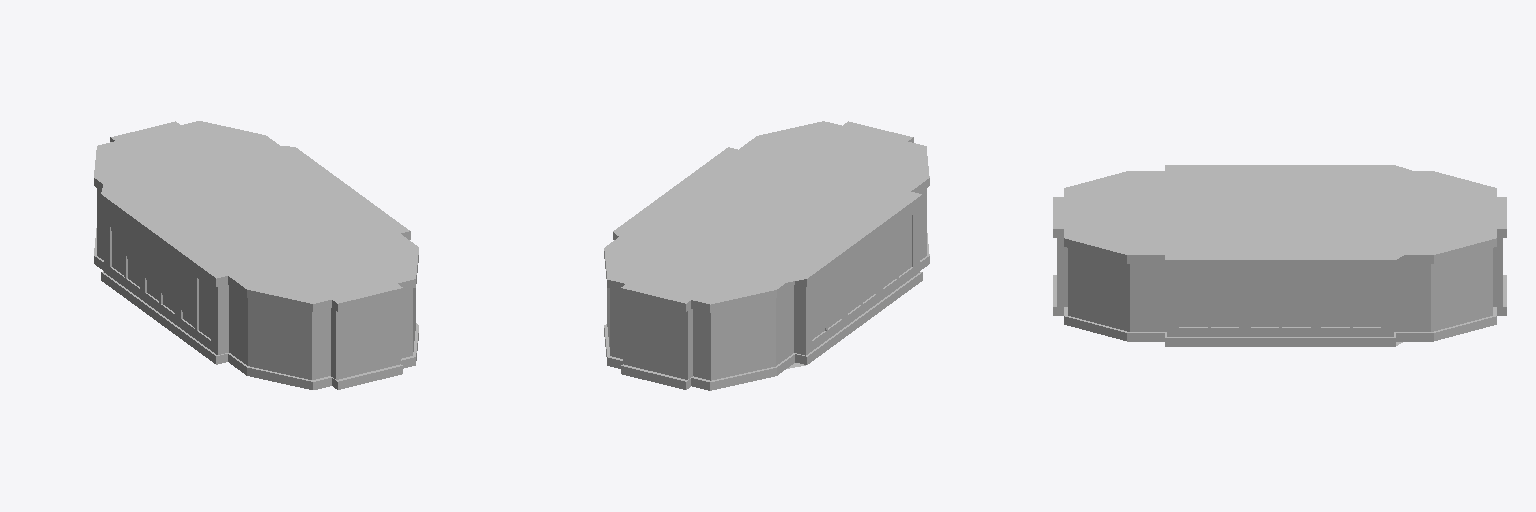
Rendered from buildingC2.obj.
3 views of the same model, side by side, from view 1: azimuth 30°, elevation 25°; view 2: azimuth 150°, elevation 25°; view 3: azimuth 270°, elevation 25° (orthographic).
Visible parts, largest first — view 1: Cube.002_Cube.001; view 2: Cube.002_Cube.001; view 3: Cube.002_Cube.001.
Part boxes in pixels (x1,y1,x2,y2): Cube.002_Cube.001: (94,121,418,389); Cube.002_Cube.001: (604,121,929,390); Cube.002_Cube.001: (1053,165,1506,346).
Bounding box in the file's own units: 7.04 × 2.99 × 14.29.